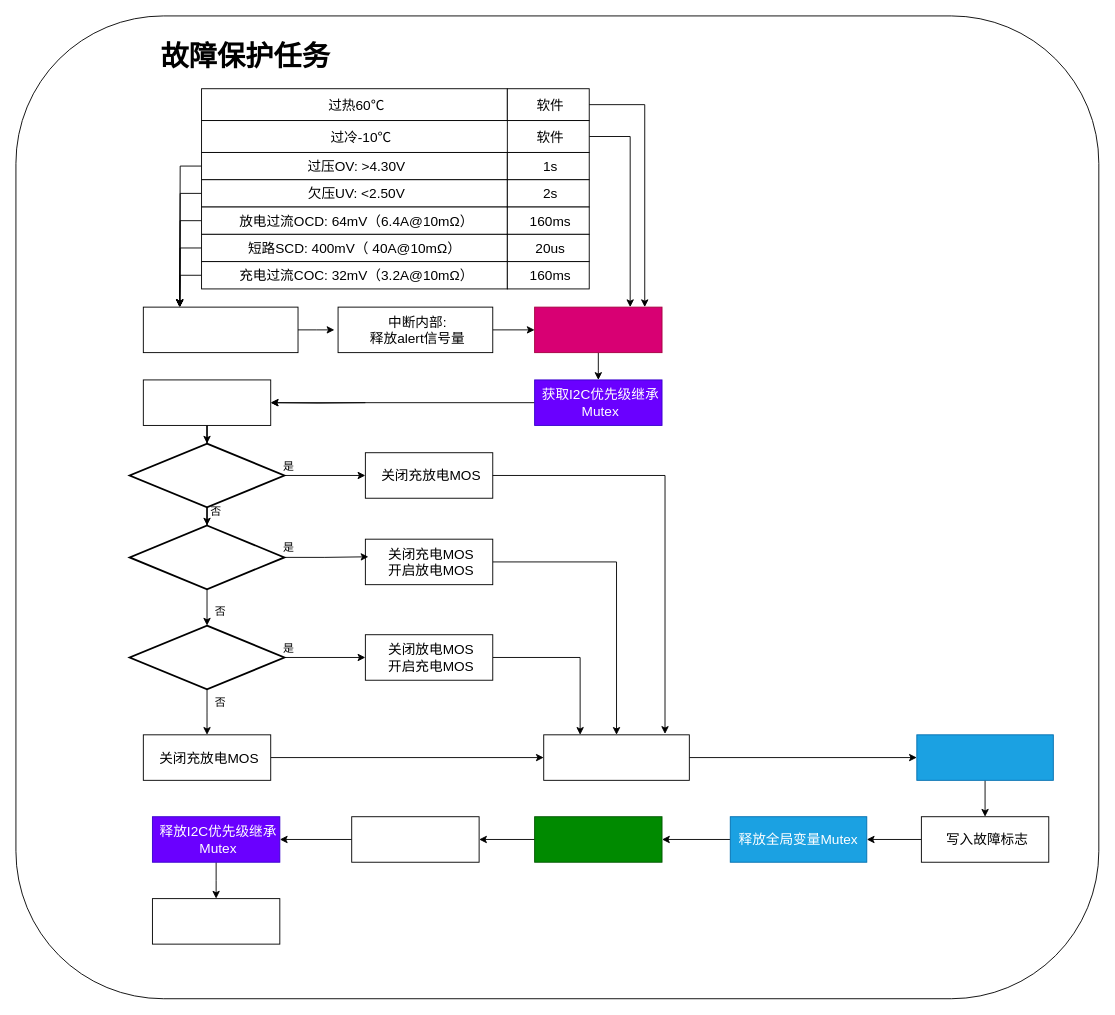
Some shapes in this 1115 by 1015 pixel diagram are drawn without their labels. The box of each missing label's shape, as (x1, y1, x2, y2) in pixels:
I2C读取当前 电压电流温度: (543, 734, 689, 780)
I2C读取状态异常寄存器: (142, 379, 271, 425)
MCU捕捉到alert上升沿,外部中断触发: (142, 306, 298, 353)
写入Flash故障日志: (351, 816, 479, 862)
打包存入 CAN发送队列: (534, 816, 662, 862)
故障保护任务接受alert信号量: (534, 306, 662, 353)
欠压?放电过流: (128, 624, 285, 690)
短路?过热?过冷?: (128, 442, 285, 508)
等待下一次报警: (152, 898, 280, 944)
获取全局变量Mutex: (916, 734, 1053, 780)
过压?充电过流?: (128, 524, 285, 590)
